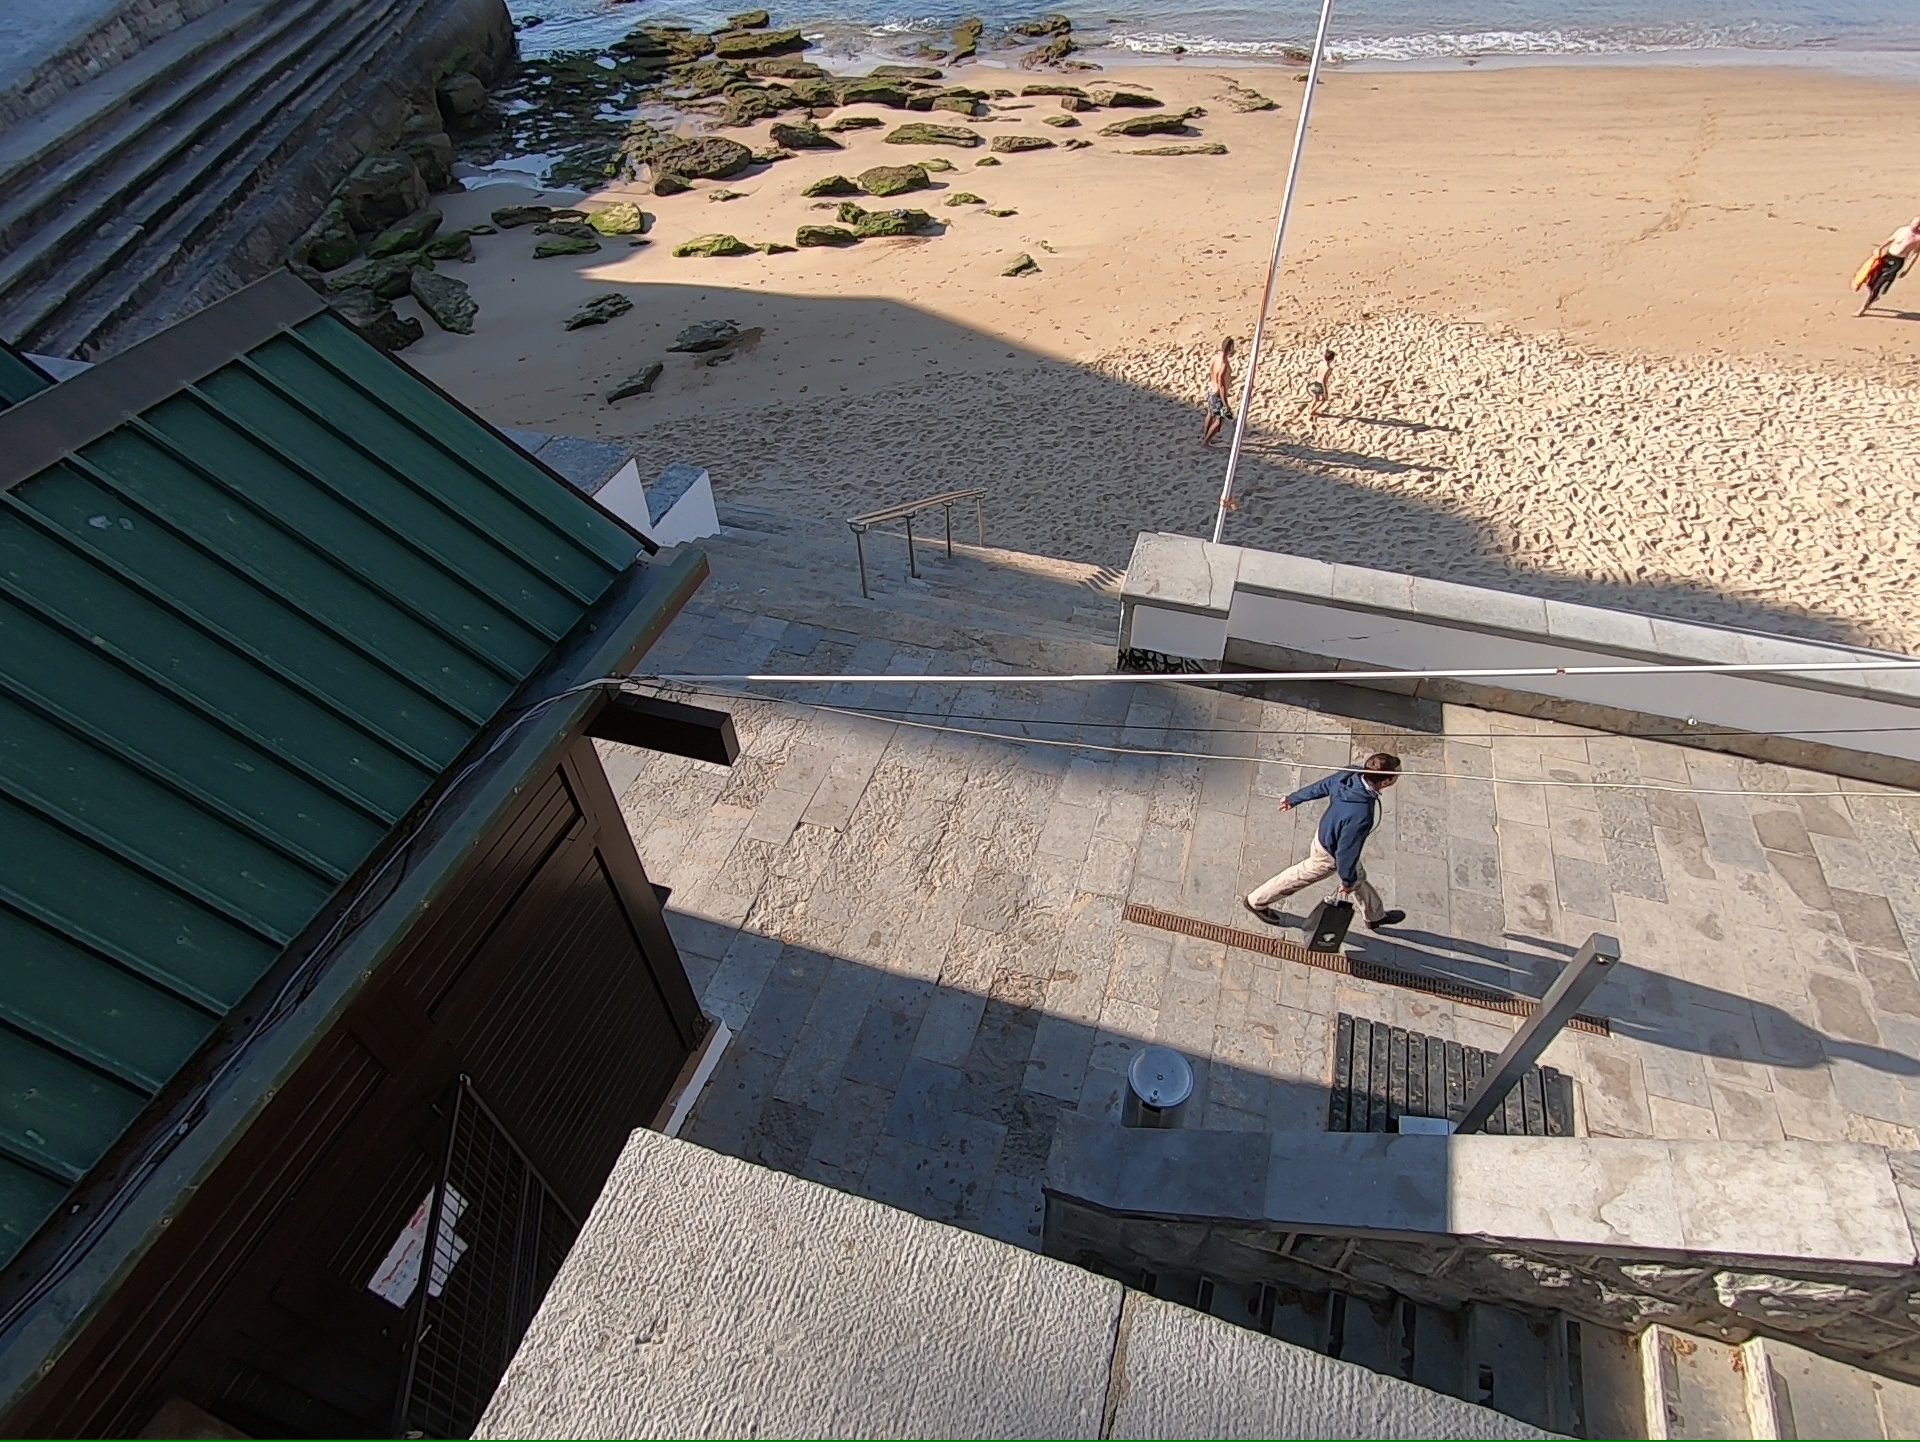person: (1245, 738, 1407, 931), (1856, 210, 1920, 318), (1201, 335, 1236, 442), (1309, 346, 1335, 411)
